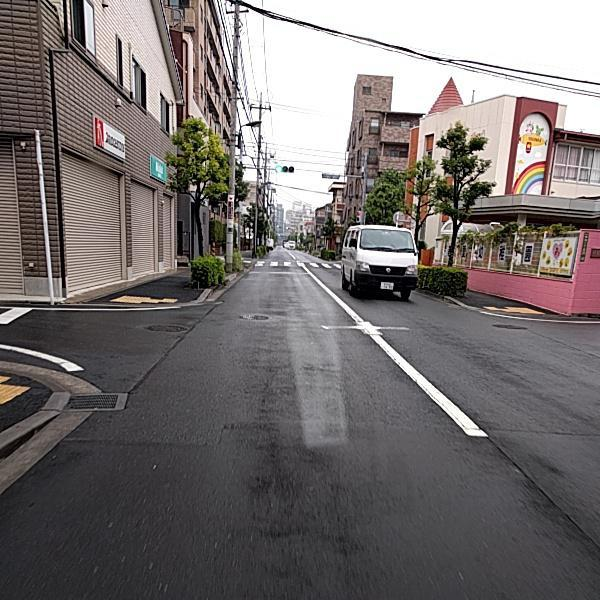D44: (285, 312, 434, 344)
D50: (144, 323, 188, 333), (492, 321, 528, 331), (241, 311, 268, 319)
